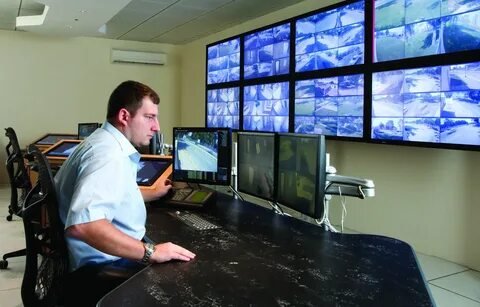awake: (52, 79, 197, 265)
